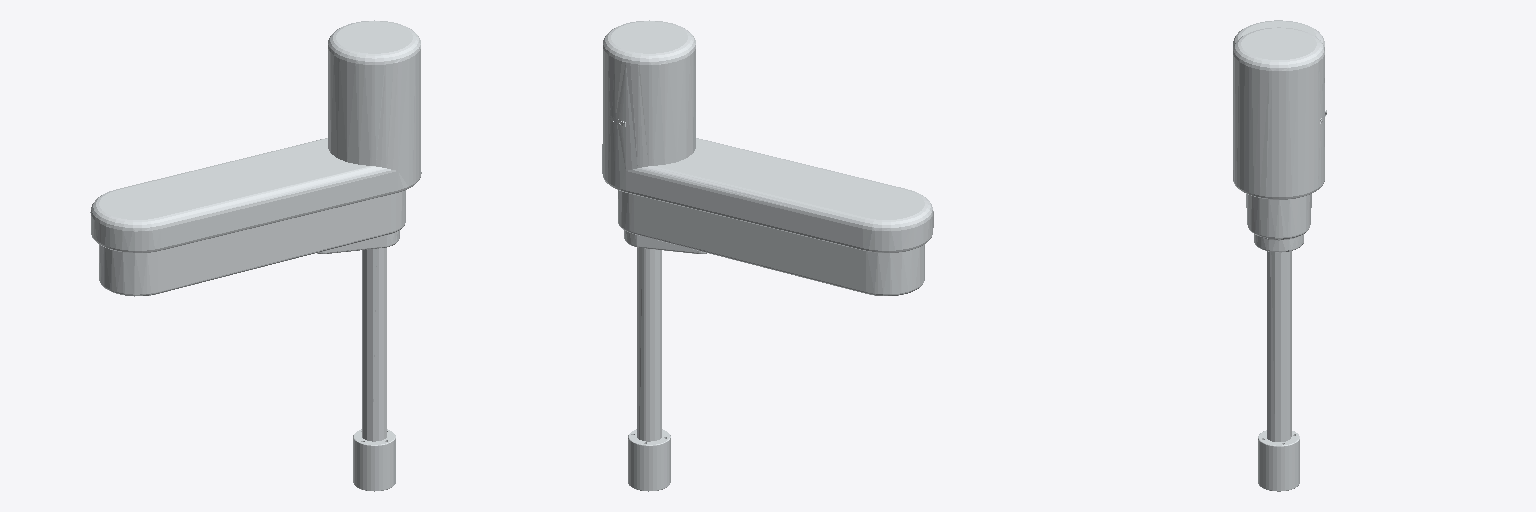
URDF robot description (scara3):
<?xml version="1.0" encoding="utf-8"?>
<!-- This URDF was automatically created by SolidWorks to URDF Exporter! Originally created by [author] ([email redacted]) 
     Commit Version: 1.6.0-4-g7f85cfe  Build Version: 1.6.7995.38578
     For more information, please see http://wiki.ros.org/sw_urdf_exporter -->
<robot
  name="scara3">
  <link
    name="base_link">
    <inertial>
      <origin
        xyz="3.4694E-18 -0.010496 0.097334"
        rpy="0 0 0" />
      <mass
        value="13.521" />
      <inertia
        ixx="0.07366"
        ixy="2.366E-19"
        ixz="-3.8224E-18"
        iyy="0.08182"
        iyz="-0.0035749"
        izz="0.056323" />
    </inertial>
    <visual>
      <origin
        xyz="0 0 0"
        rpy="0 0 0" />
      <geometry>
        <mesh
          filename="package://scara3/meshes/base_link.STL" />
      </geometry>
      <material
        name="">
        <color
          rgba="0.89804 0.91765 0.92941 1" />
      </material>
    </visual>
    <collision>
      <origin
        xyz="0 0 0"
        rpy="0 0 0" />
      <geometry>
        <mesh
          filename="package://scara3/meshes/base_link.STL" />
      </geometry>
    </collision>
  </link>
  <link
    name="Link1">
    <inertial>
      <origin
        xyz="0.094352 0.0010294 0.12084"
        rpy="0 0 0" />
      <mass
        value="15.936" />
      <inertia
        ixx="0.069528"
        ixy="-0.0021755"
        ixz="-0.059062"
        iyy="0.26893"
        iyz="-0.00064495"
        izz="0.24013" />
    </inertial>
    <visual>
      <origin
        xyz="0 0 0"
        rpy="0 0 0" />
      <geometry>
        <mesh
          filename="package://scara3/meshes/Link1.STL" />
      </geometry>
      <material
        name="">
        <color
          rgba="0.89804 0.91765 0.92941 1" />
      </material>
    </visual>
    <collision>
      <origin
        xyz="0 0 0"
        rpy="0 0 0" />
      <geometry>
        <mesh
          filename="package://scara3/meshes/Link1.STL" />
      </geometry>
    </collision>
  </link>
  <joint
    name="q1"
    type="revolute">
    <origin
      xyz="0 0 0.2"
      rpy="0 0 0" />
    <parent
      link="base_link" />
    <child
      link="Link1" />
    <axis
      xyz="0 0 1" />
    <limit
      lower="-3.14"
      upper="3.14"
      effort="0"
      velocity="0" />
  </joint>
  <link
    name="link2">
    <inertial>
      <origin
        xyz="0.19698 6.5485E-05 0.083139"
        rpy="0 0 0" />
      <mass
        value="13.373" />
      <inertia
        ixx="0.060294"
        ixy="-6.133E-05"
        ixz="-0.049853"
        iyy="0.25254"
        iyz="-1.6152E-05"
        izz="0.21224" />
    </inertial>
    <visual>
      <origin
        xyz="0 0 0"
        rpy="0 0 0" />
      <geometry>
        <mesh
          filename="package://scara3/meshes/link2.STL" />
      </geometry>
      <material
        name="">
        <color
          rgba="0.89804 0.91765 0.92941 1" />
      </material>
    </visual>
    <collision>
      <origin
        xyz="0 0 0"
        rpy="0 0 0" />
      <geometry>
        <mesh
          filename="package://scara3/meshes/link2.STL" />
      </geometry>
    </collision>
  </link>
  <joint
    name="q2"
    type="revolute">
    <origin
      xyz="0.31998 0.0034886 0.2015"
      rpy="0 0 0" />
    <parent
      link="Link1" />
    <child
      link="link2" />
    <axis
      xyz="0 0 1" />
    <limit
      lower="-2.6"
      upper="2.6"
      effort="0"
      velocity="0" />
  </joint>
  <link
    name="shaft">
    <inertial>
      <origin
        xyz="-2.1871E-14 -1.9545E-13 -0.18237"
        rpy="0 0 0" />
      <mass
        value="0.80683" />
      <inertia
        ixx="0.012728"
        ixy="2.1641E-20"
        ixz="6.244E-19"
        iyy="0.012728"
        iyz="7.3305E-20"
        izz="0.00015918" />
    </inertial>
    <visual>
      <origin
        xyz="0 0 0"
        rpy="0 0 0" />
      <geometry>
        <mesh
          filename="package://scara3/meshes/shaft.STL" />
      </geometry>
      <material
        name="">
        <color
          rgba="0.89804 0.91765 0.92941 1" />
      </material>
    </visual>
    <collision>
      <origin
        xyz="0 0 0"
        rpy="0 0 0" />
      <geometry>
        <mesh
          filename="package://scara3/meshes/shaft.STL" />
      </geometry>
    </collision>
  </link>
  <joint
    name="end"
    type="prismatic">
    <origin
      xyz="0.32 0.00010471 -0.33438"
      rpy="-3.1416 0 3.1416" />
    <parent
      link="link2" />
    <child
      link="shaft" />
    <axis
      xyz="0 0 1" />
    <limit
      lower="0"
      upper="0.1"
      effort="0"
      velocity="0" />
  </joint>
</robot>

--- What the picture shows (computed from the rendered views, not written in the file) ---
3 views of the same robot in one strip: view 1: azimuth 30°, elevation 25°; view 2: azimuth 150°, elevation 25°; view 3: azimuth 270°, elevation 25° (orthographic).
Model scara3 with 4 links and 3 joints (2 revolute, 1 prismatic), rooted at base_link, posed every joint at zero.
Visible links, largest first — view 1: link2, shaft; view 2: link2, shaft; view 3: link2, shaft.
Boxes of the visible links, bbox=[...] form: link2: bbox=[90, 20, 421, 296]; shaft: bbox=[353, 248, 395, 491]; link2: bbox=[602, 20, 933, 295]; shaft: bbox=[628, 248, 670, 491]; link2: bbox=[1233, 20, 1326, 252]; shaft: bbox=[1258, 251, 1299, 491].
Bounding box of the posed robot: 0.43 × 0.1125 × 0.5744 m (x, y, z).
Meshes: 4 distinct files referenced, 2 mesh visuals loaded (2 binary STL); not drawn: 2 (reference not matched to a file when rendering).